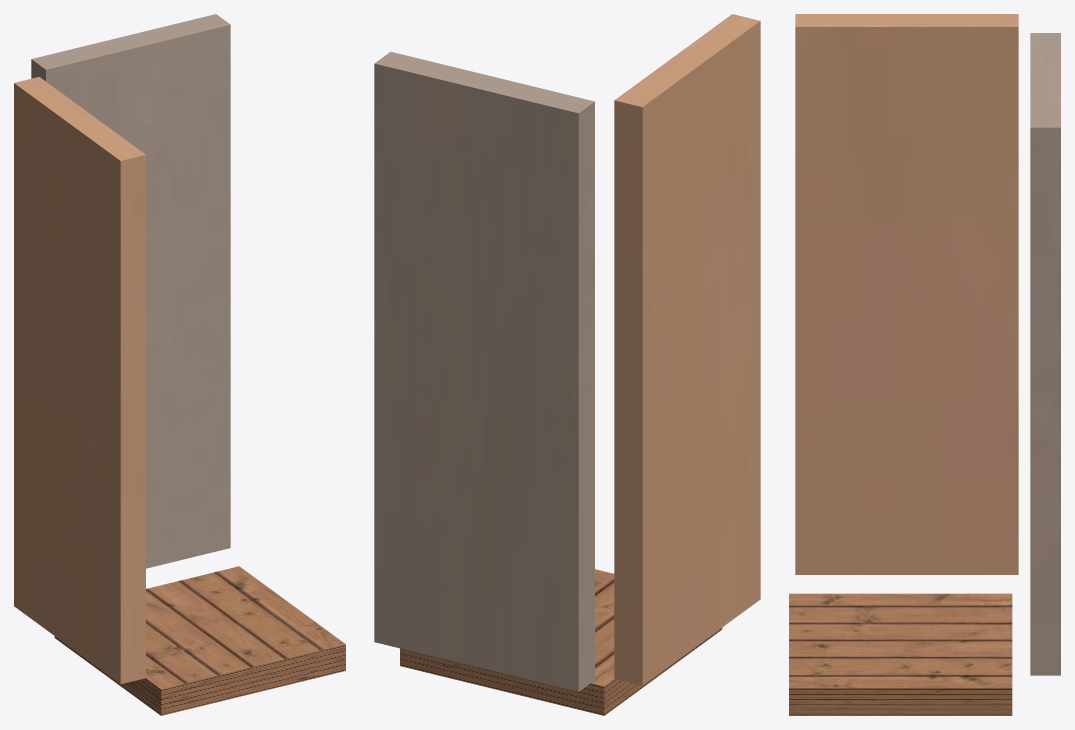
Rendered from Swatchesvaggargolvtexturer (1).glb.
The picture shows the model from 3 angles, left to right: view 1: azimuth 30°, elevation 25°; view 2: azimuth 150°, elevation 25°; view 3: azimuth 270°, elevation 25°; orthographic projection. The views are drawn at different scales.
Parts seen in each view (by area): view 1: Kök, Vardagsrum, Golv; view 2: Vardagsrum, Kök, Golv; view 3: Kök, Golv, Vardagsrum.
Part boxes in pixels (x1,y1,x2,y2): Kök: [14, 77, 145, 684]; Vardagsrum: [31, 14, 230, 568]; Golv: [54, 566, 345, 715]; Vardagsrum: [374, 51, 594, 691]; Kök: [614, 14, 760, 685]; Golv: [400, 569, 722, 715]; Kök: [795, 14, 1018, 574]; Golv: [789, 593, 1012, 715]; Vardagsrum: [1030, 33, 1060, 675].
Bounding box in the file's own units: 1.2 × 2.91 × 1.22.
3 materials, 3 textured.
